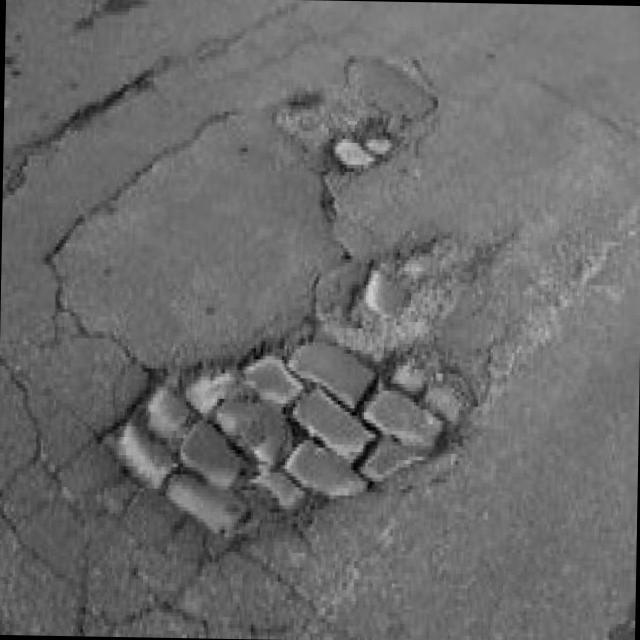Pothole: (116, 269, 555, 572), (287, 52, 438, 190), (65, 62, 173, 134)
